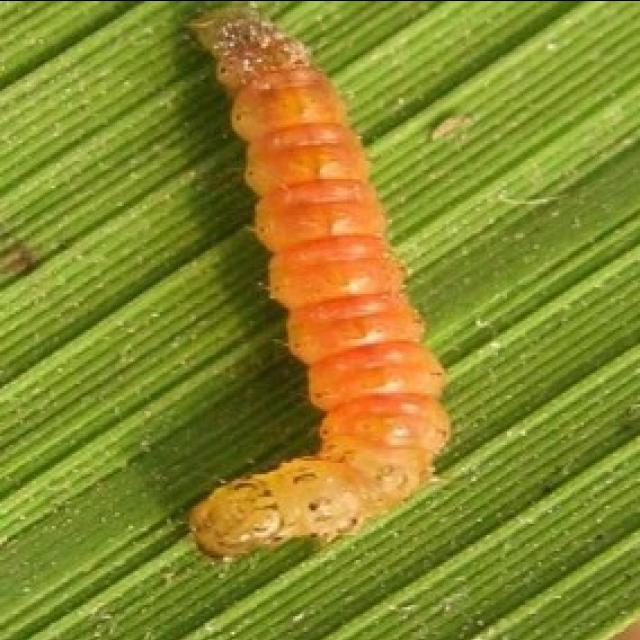rice leaf roller: (192, 7, 451, 554)
